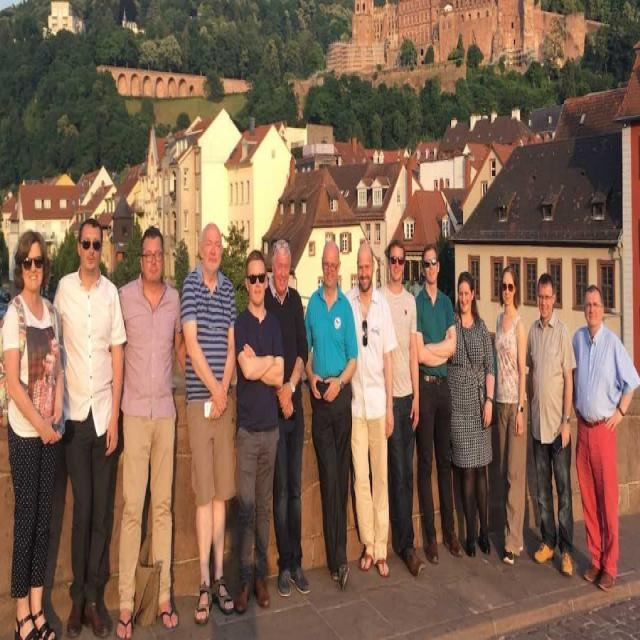body: (52, 213, 130, 639), (115, 225, 188, 640), (1, 228, 66, 640), (178, 218, 239, 630), (571, 282, 640, 594), (230, 245, 286, 619), (302, 238, 360, 594), (343, 239, 398, 577), (523, 272, 581, 581), (373, 240, 426, 576), (263, 236, 312, 595), (412, 240, 463, 565), (444, 265, 500, 559), (491, 262, 530, 570)
